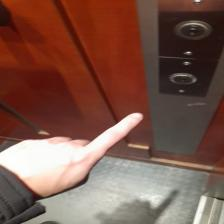one: (10, 110, 147, 195)
